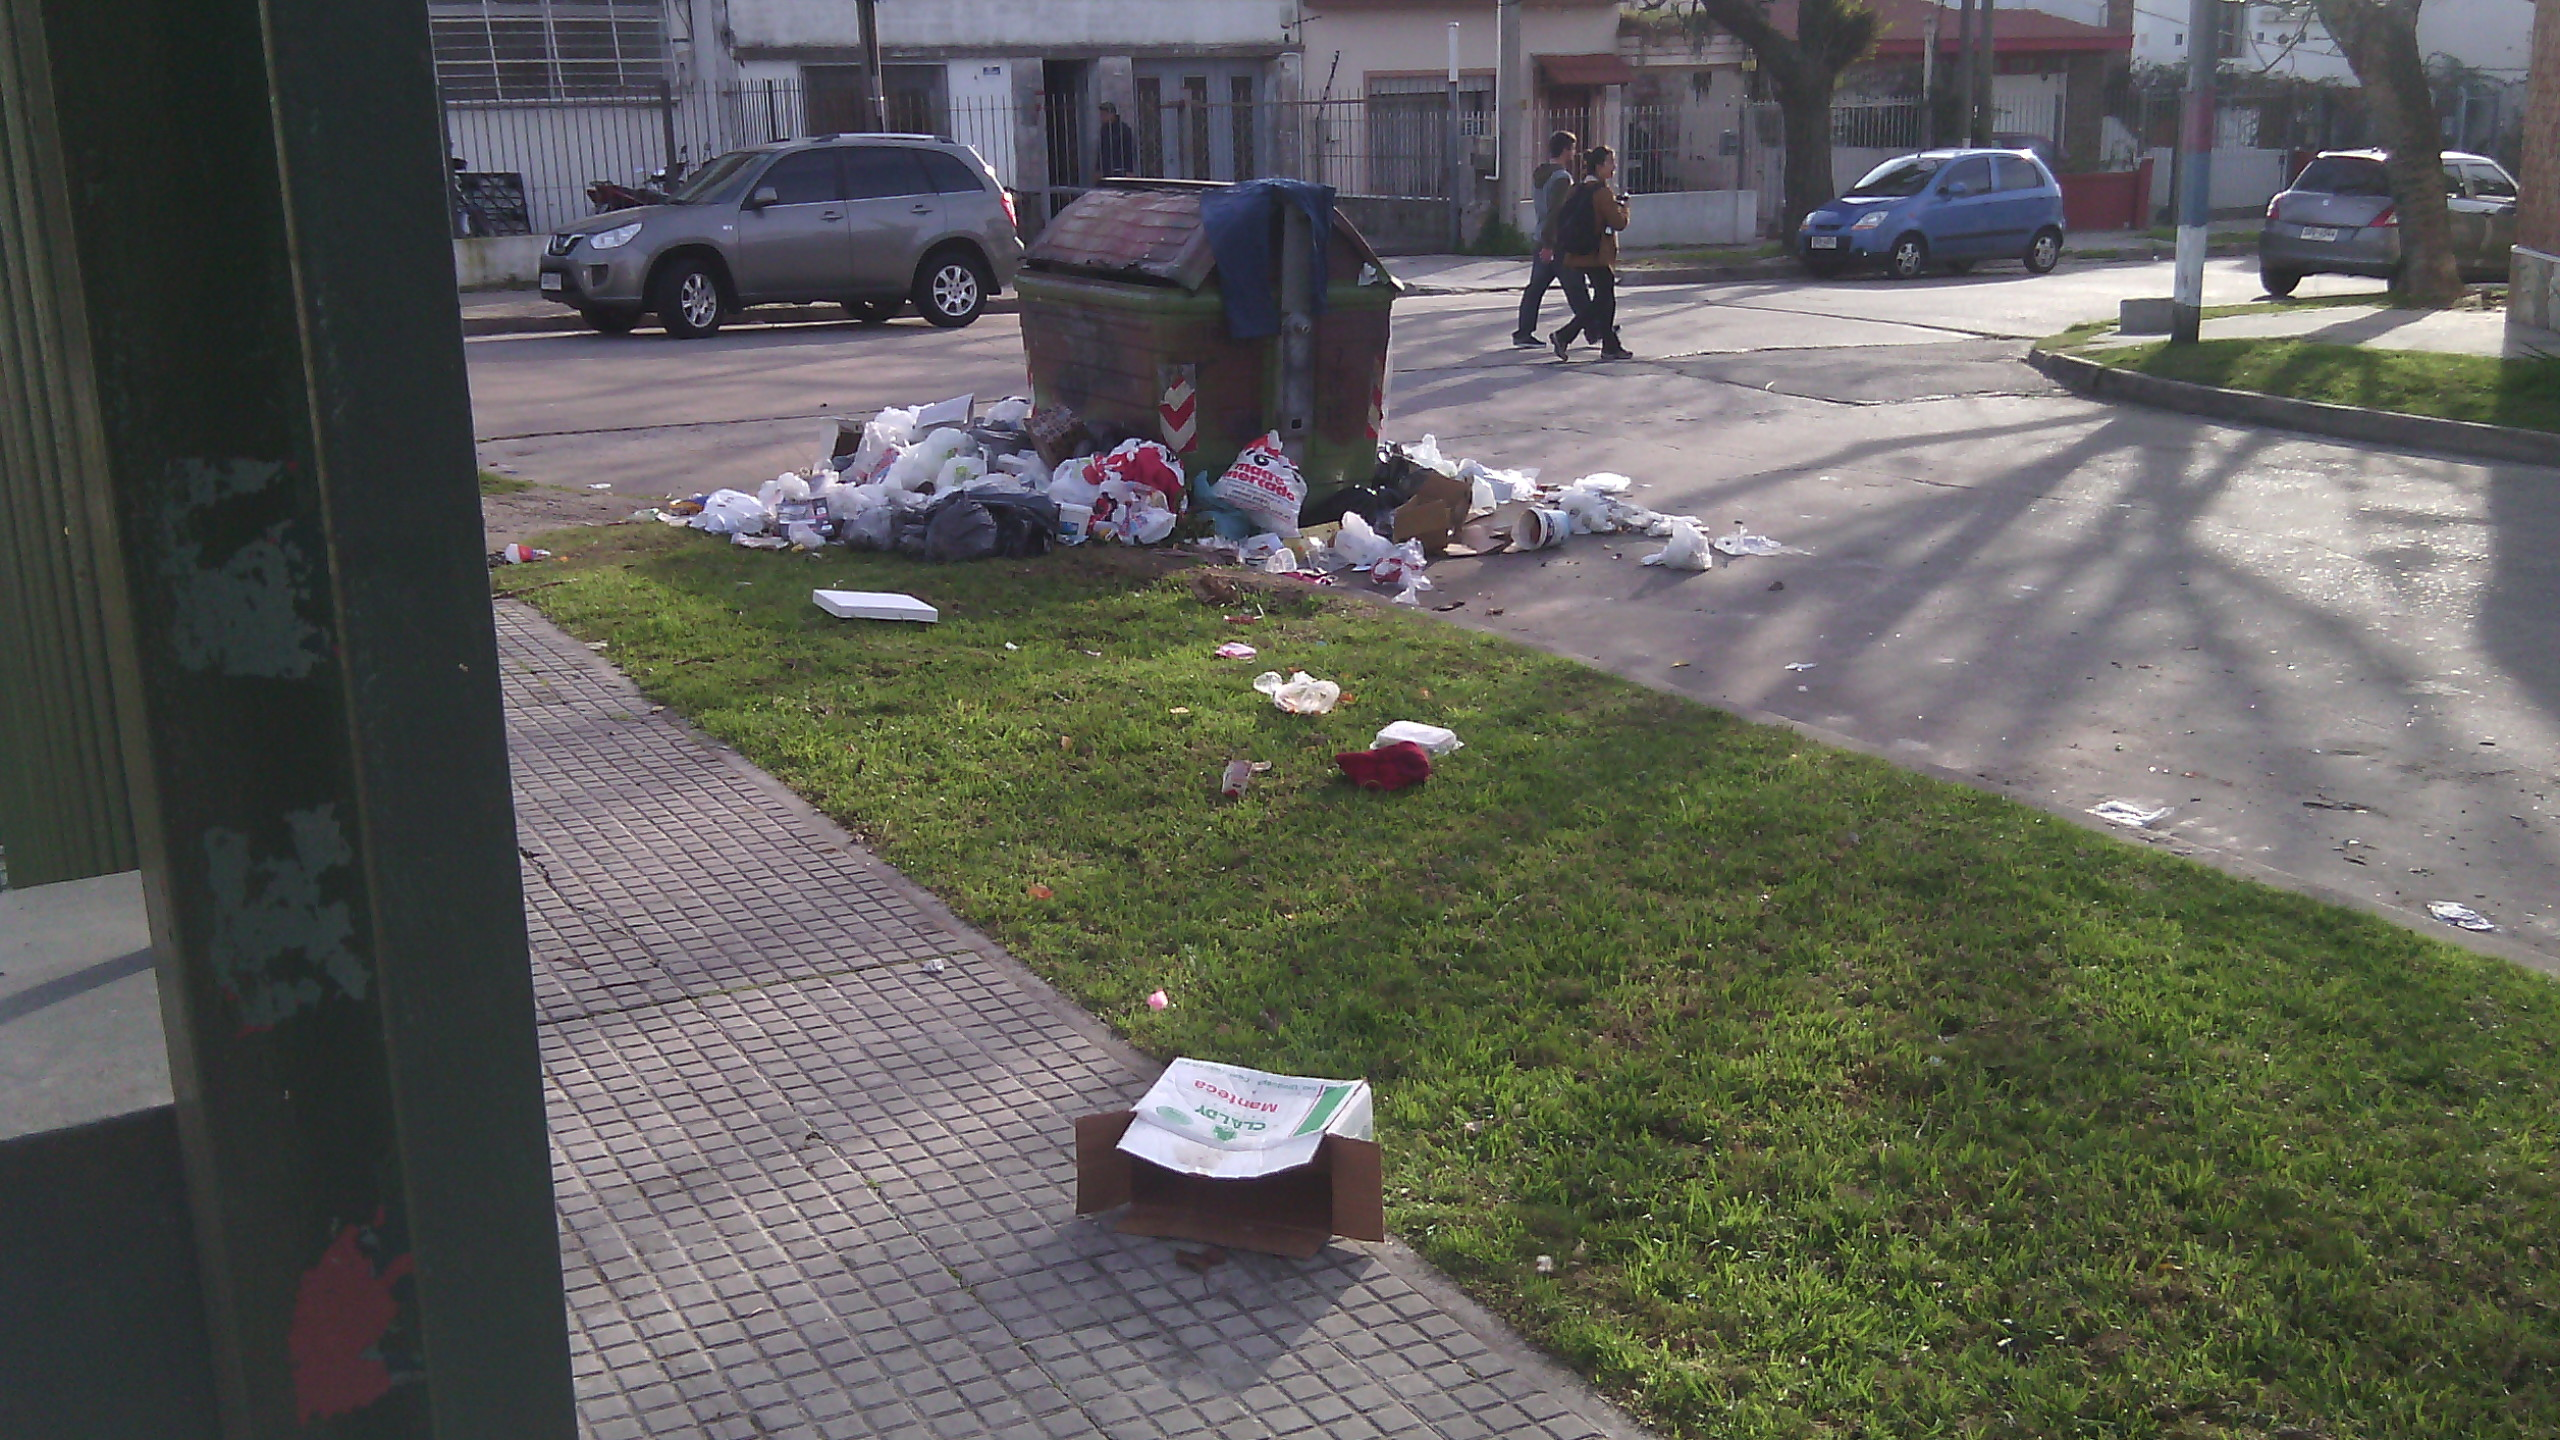container: (1015, 158, 1412, 503)
